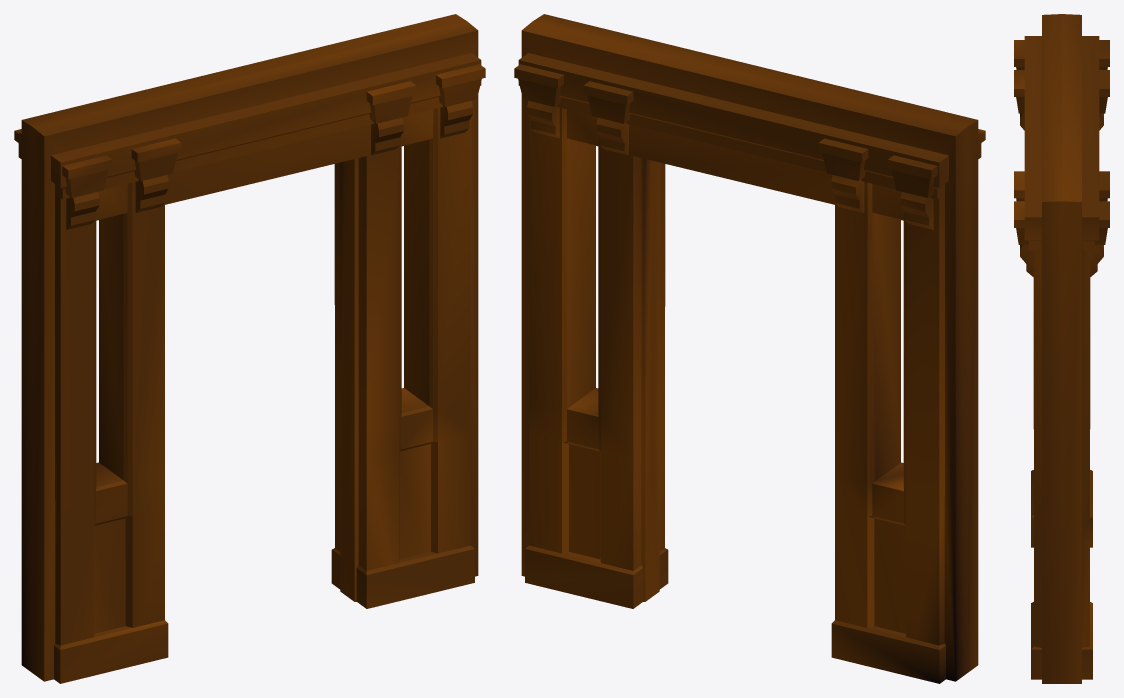
The model's file is Door2.fbx.
3 renders of one model, left to right at view 1: azimuth 30°, elevation 25°; view 2: azimuth 150°, elevation 25°; view 3: azimuth 270°, elevation 25°, orthographic. The views are drawn at different scales.
Visible parts, largest first — view 1: SM_Bld_Wall_Door_Large_01; view 2: SM_Bld_Wall_Door_Large_01; view 3: SM_Bld_Wall_Door_Large_01.
Boxes of the visible parts, bbox=[...] form: SM_Bld_Wall_Door_Large_01: bbox=[14, 14, 485, 683]; SM_Bld_Wall_Door_Large_01: bbox=[514, 14, 985, 683]; SM_Bld_Wall_Door_Large_01: bbox=[1014, 14, 1109, 683].
Bounding box in the file's own units: 250 × 301 × 54.04.
